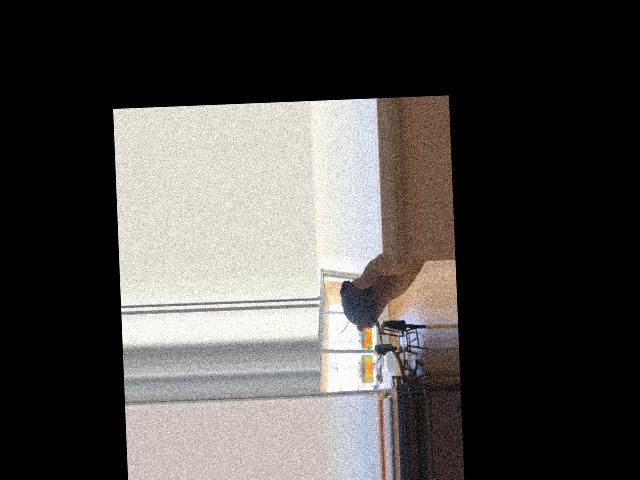beet: (339, 279, 383, 364)
